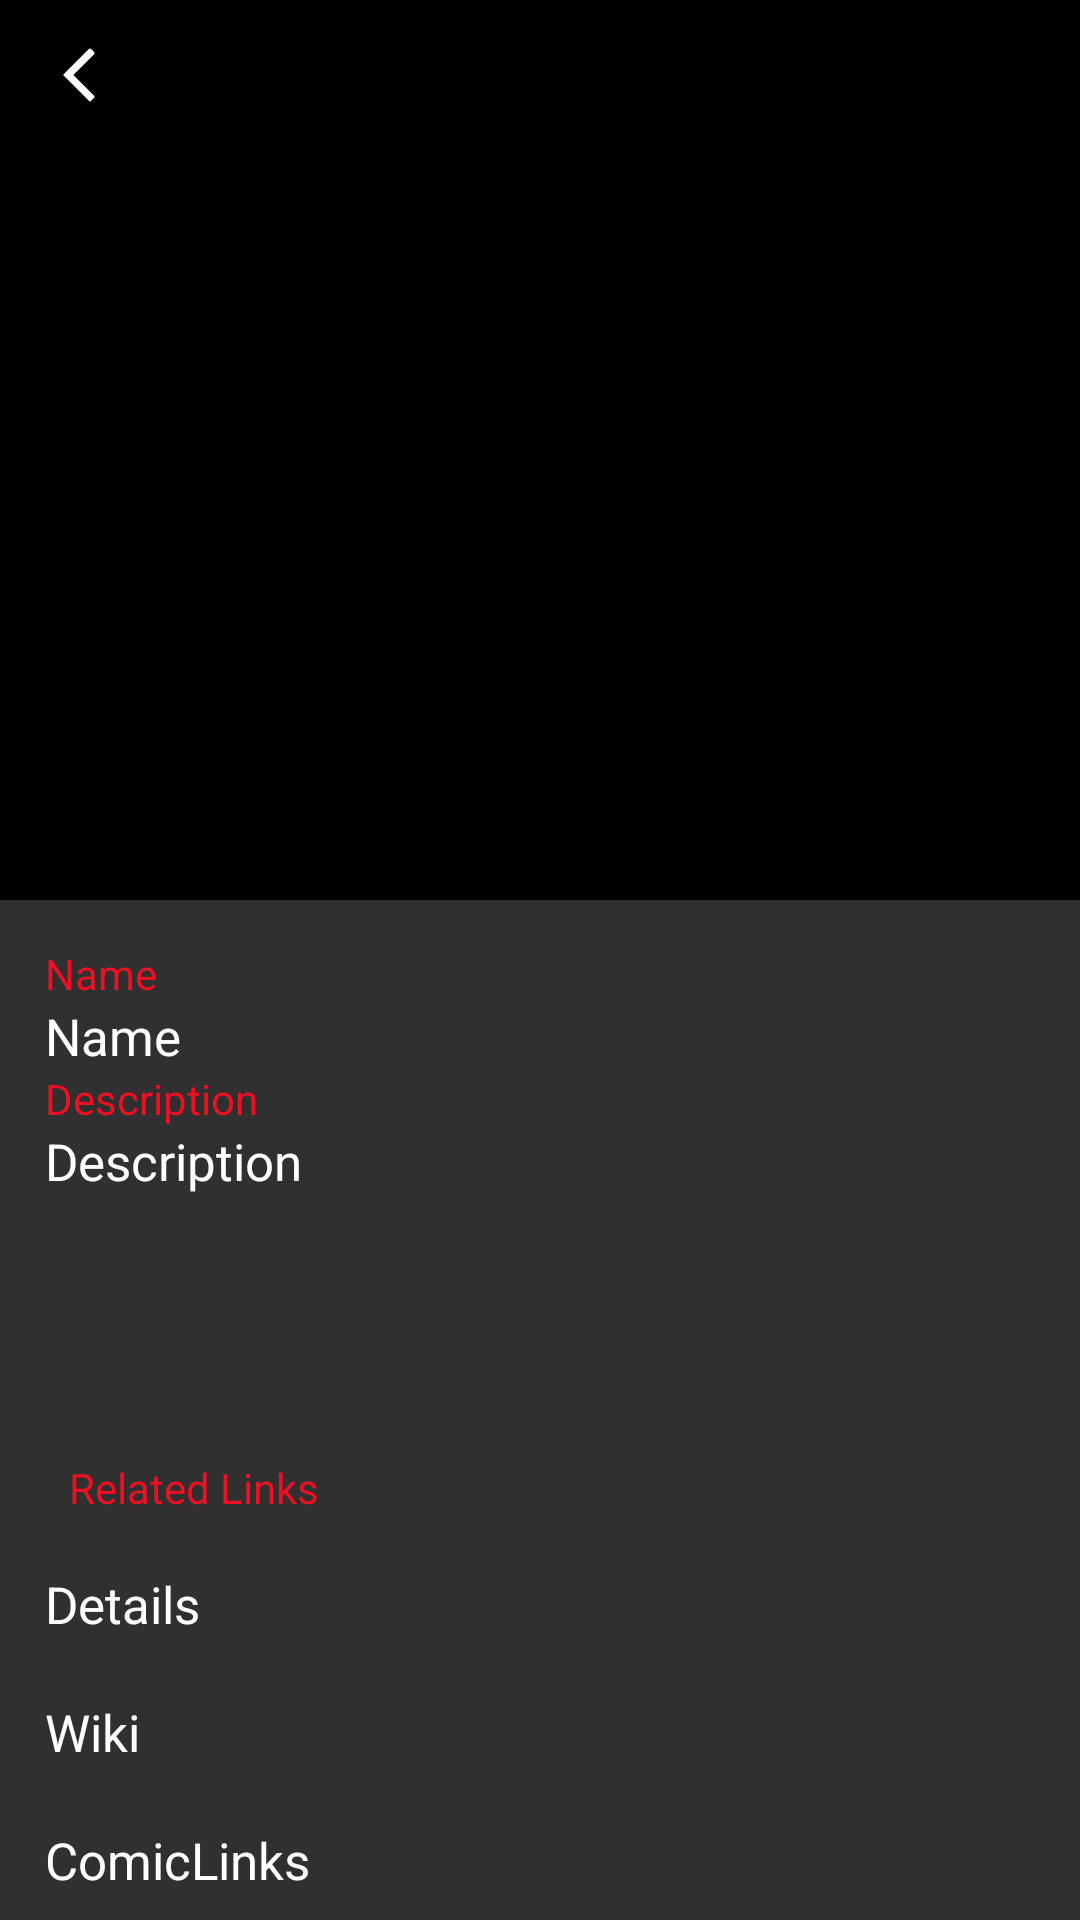

Where to tap for icons on this 1080x1920 app screen, as (x=x, y=y):
back: (x=79, y=75)
